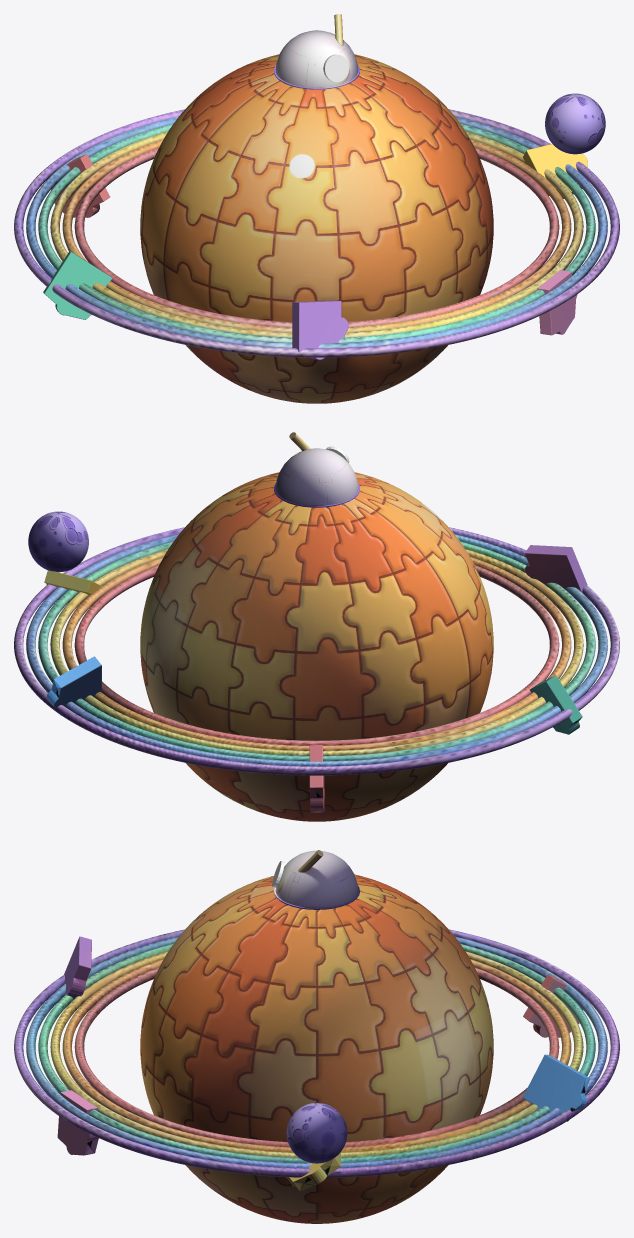
The model's file is space_home.glb.
3 renders of one model, top to bottom at view 1: azimuth 30°, elevation 25°; view 2: azimuth 150°, elevation 25°; view 3: azimuth 270°, elevation 25°, orthographic.
Visible parts, largest first — view 1: planet_play, rings, pieces, observatory, moonlet; view 2: planet_play, rings, pieces, observatory, moonlet; view 3: planet_play, rings, pieces, observatory, moonlet.
Part boxes in pixels (x1,y1,x2,y2): planet_play: (140,54,493,403); rings: (14,109,619,357); pieces: (43,144,587,359); observatory: (274,14,359,89); moonlet: (545,93,605,154); planet_play: (140,472,493,821); rings: (14,527,619,775); pieces: (44,545,587,812); observatory: (274,432,359,507); moonlet: (28,511,88,572); planet_play: (140,874,493,1223); rings: (14,929,619,1177); pieces: (57,936,589,1191); observatory: (272,850,359,909); moonlet: (286,1103,347,1163).
Size of the model in its own units: 11.58 by 7.34 by 10.97.
8 materials, 8 textured.
